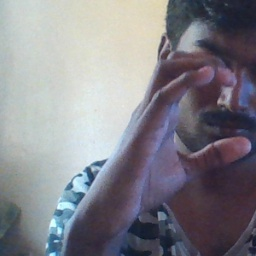C: (144, 46, 254, 181)
